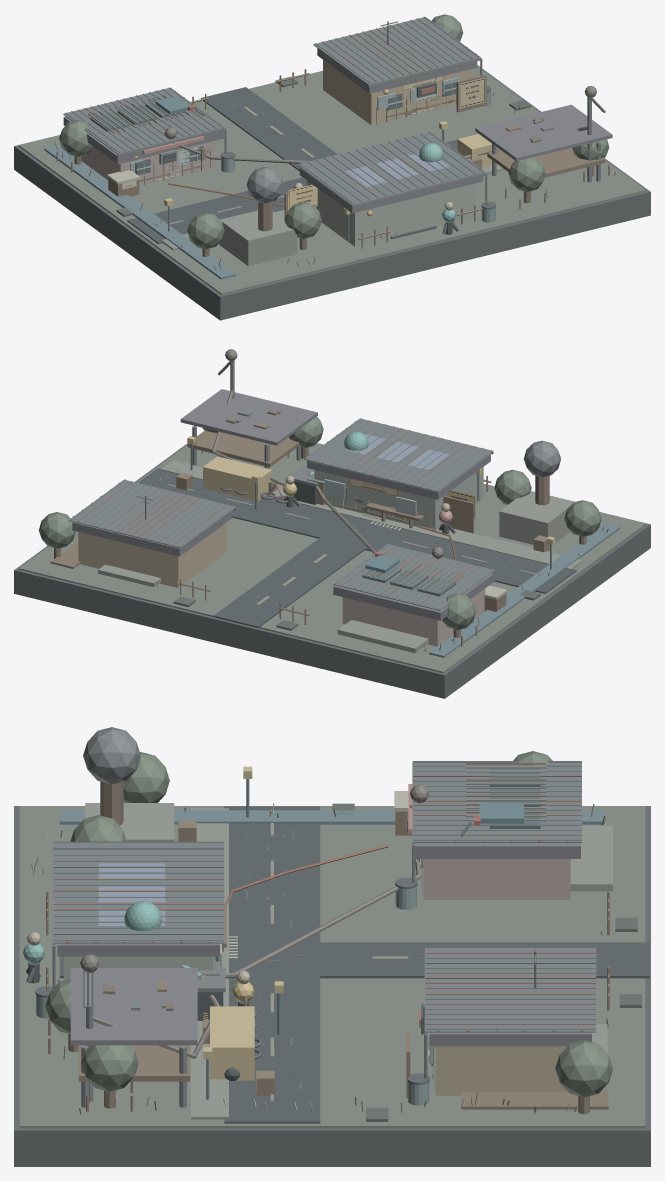
The model's file is yudae_p_commons_detailed.glb.
The picture shows the model from 3 angles, top to bottom: view 1: azimuth 30°, elevation 25°; view 2: azimuth 150°, elevation 25°; view 3: azimuth 270°, elevation 25°; orthographic projection. The views are drawn at different scales.
Parts seen in each view (by area): view 1: world; view 2: world; view 3: world.
Boxes of the visible parts, left/top/right/bottom form: world: left=14, top=14, right=650, bottom=320; world: left=14, top=349, right=650, bottom=698; world: left=14, top=727, right=650, bottom=1166.
Bounding box in the file's own units: 3.45 × 0.918 × 2.86.
Materials: 9 (9 with a texture image).
